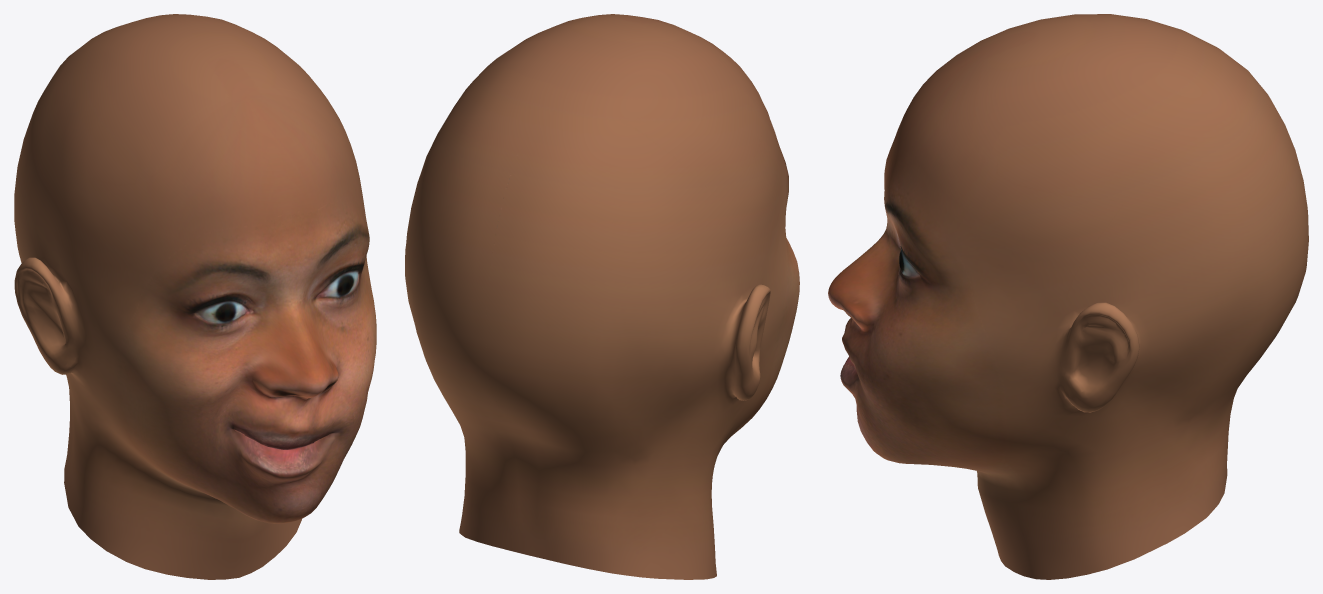
Rendered from v332_obj_ExpressionMouthRight.obj.
3 views of the same model, side by side, from view 1: azimuth 30°, elevation 25°; view 2: azimuth 150°, elevation 25°; view 3: azimuth 270°, elevation 25° (orthographic). The views are drawn at different scales.
Parts seen in each view (by area): view 1: HeadHires; view 2: HeadHires; view 3: HeadHires.
Part boxes in pixels (<box>): HeadHires: <box>14,14,376,579</box>; HeadHires: <box>405,14,799,579</box>; HeadHires: <box>828,14,1308,579</box>.
Size of the model in its own units: 187 by 282 by 233.
